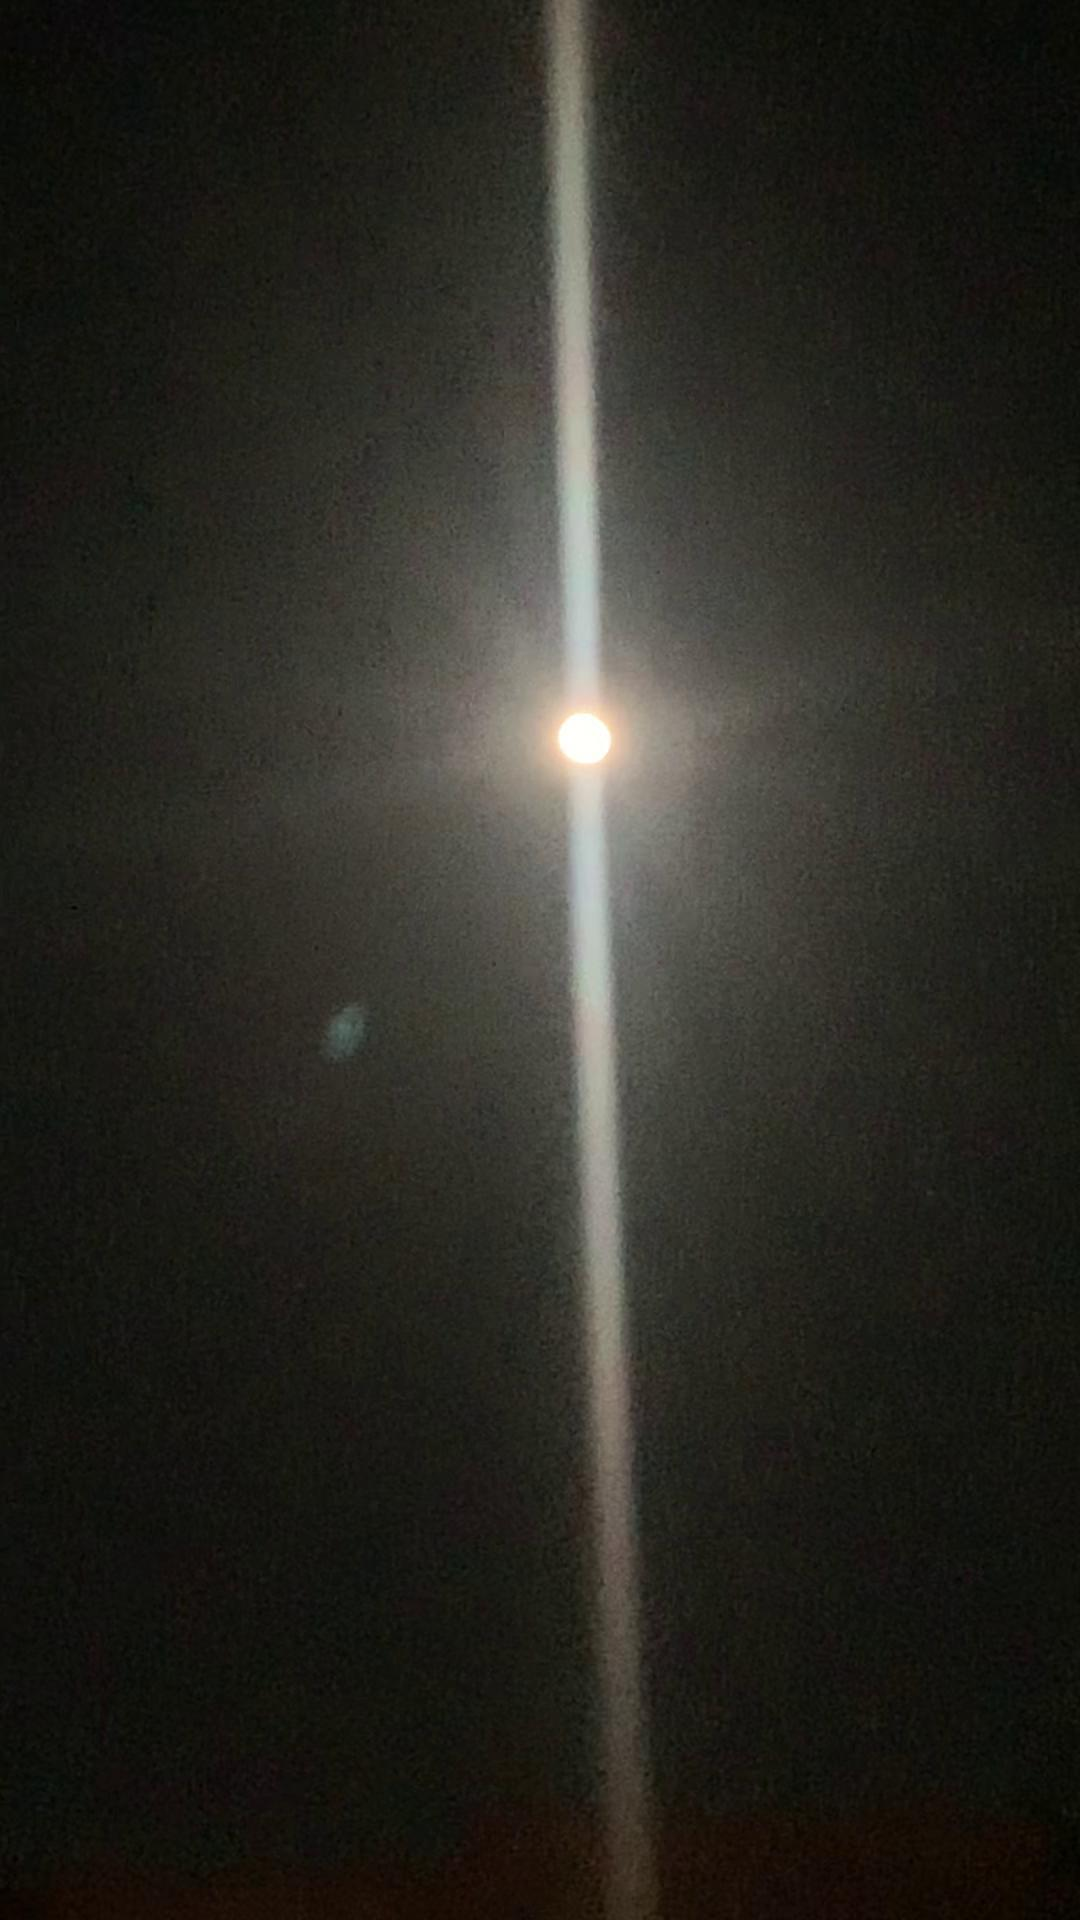moon: (537, 696, 625, 793)
